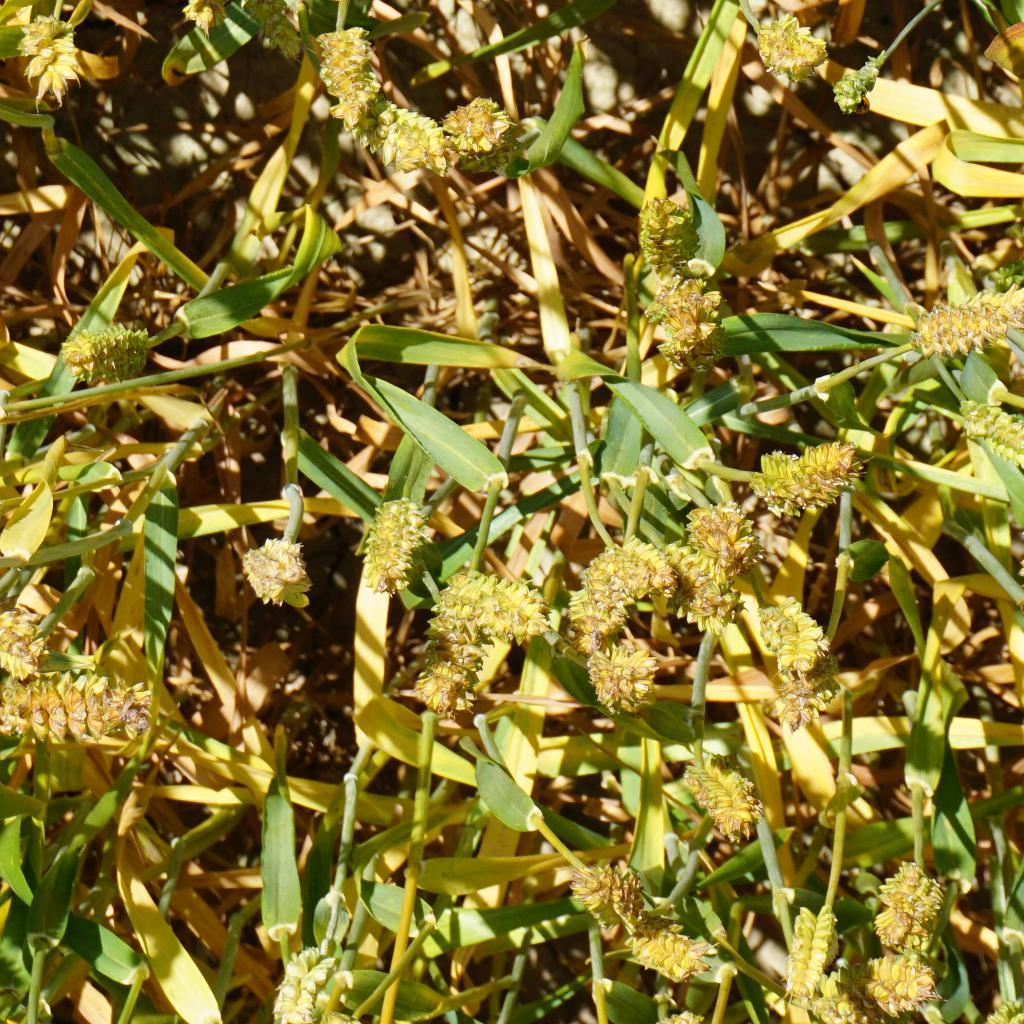0-0: (0, 670, 164, 747), (429, 565, 559, 646), (354, 487, 445, 599), (906, 283, 1024, 364), (352, 88, 449, 179), (641, 273, 729, 373), (748, 444, 865, 510), (829, 951, 950, 1014), (437, 91, 525, 176), (413, 628, 494, 720), (311, 19, 379, 128), (578, 854, 657, 947), (748, 4, 828, 94), (16, 12, 99, 97), (57, 317, 160, 384), (237, 531, 319, 613), (623, 191, 703, 273), (873, 850, 944, 939), (581, 636, 664, 710), (956, 390, 1024, 480), (272, 941, 341, 1024), (755, 596, 834, 668), (677, 543, 740, 632), (573, 540, 632, 633), (769, 659, 844, 730), (683, 501, 764, 563), (782, 906, 840, 989), (825, 55, 899, 120), (695, 761, 758, 834), (632, 920, 701, 980), (623, 534, 677, 605), (242, 0, 304, 48), (0, 605, 43, 673), (795, 987, 850, 1024), (985, 255, 1024, 299), (177, 0, 254, 14)
